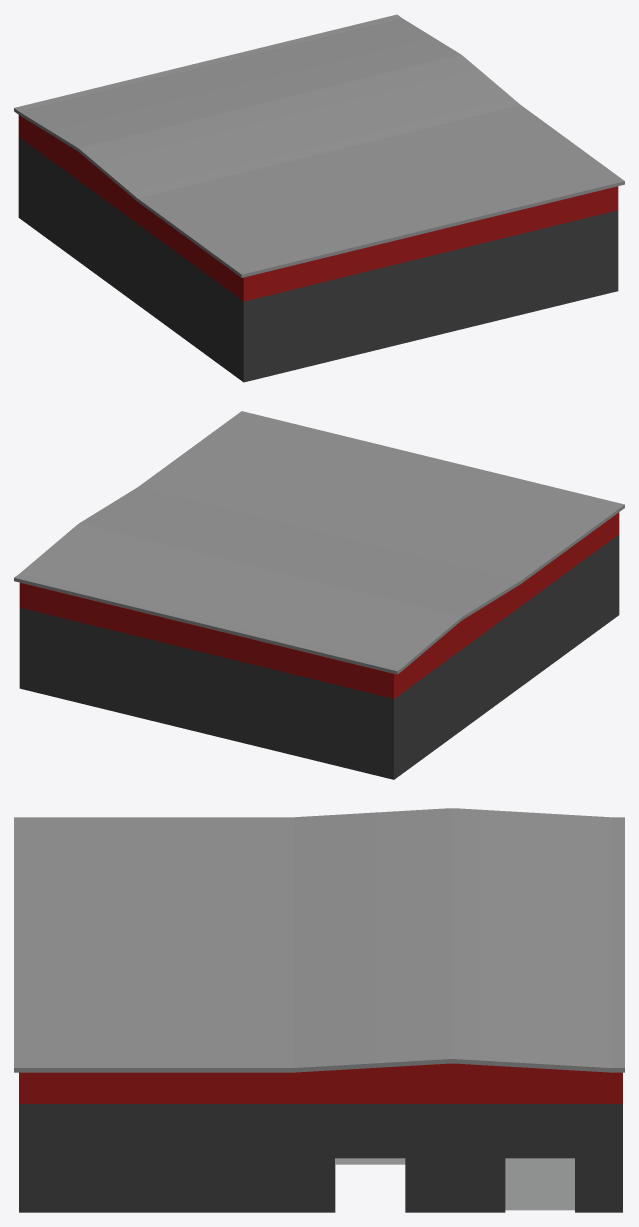
The model's file is Building2.fbx.
The picture shows the model from 3 angles, top to bottom: view 1: azimuth 30°, elevation 25°; view 2: azimuth 150°, elevation 25°; view 3: azimuth 270°, elevation 25°; orthographic projection. The views are drawn at different scales.
Parts seen in each view (by area): view 1: Крыша001, Стены001; view 2: Крыша001, Стены001; view 3: Крыша001, Стены001, Ворота 003.
Boxes of the visible parts, <box> form: Крыша001: <box>14,14,624,277</box>; Стены001: <box>18,115,618,382</box>; Крыша001: <box>14,411,624,674</box>; Стены001: <box>19,512,619,779</box>; Крыша001: <box>14,808,624,1072</box>; Стены001: <box>19,1063,622,1212</box>; Ворота 003: <box>505,1158,574,1210</box>.
Size of the model in its own units: 59.45 by 17.32 by 61.2.
